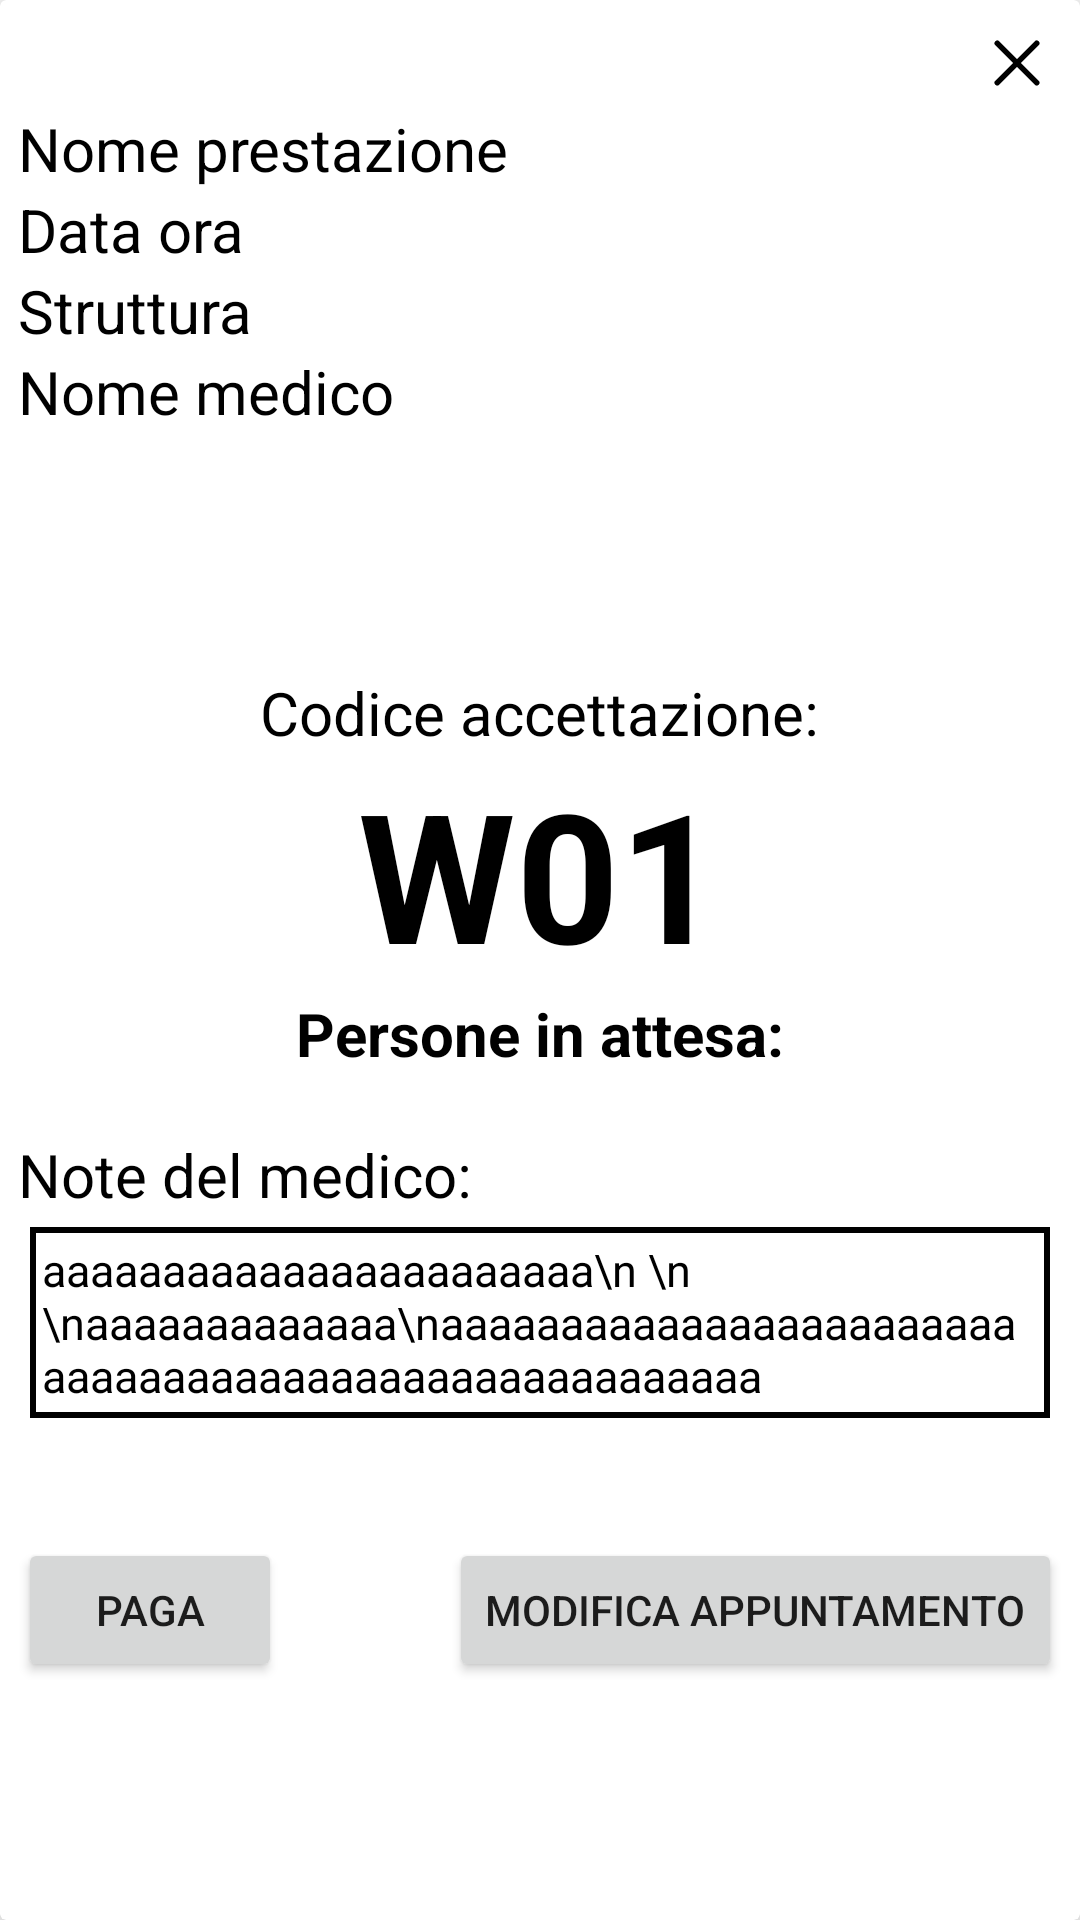

Where icons sit on this 1080×1920 app screen, as (x1, y1, x2, y2):
close popup: (994, 40, 1040, 86)
